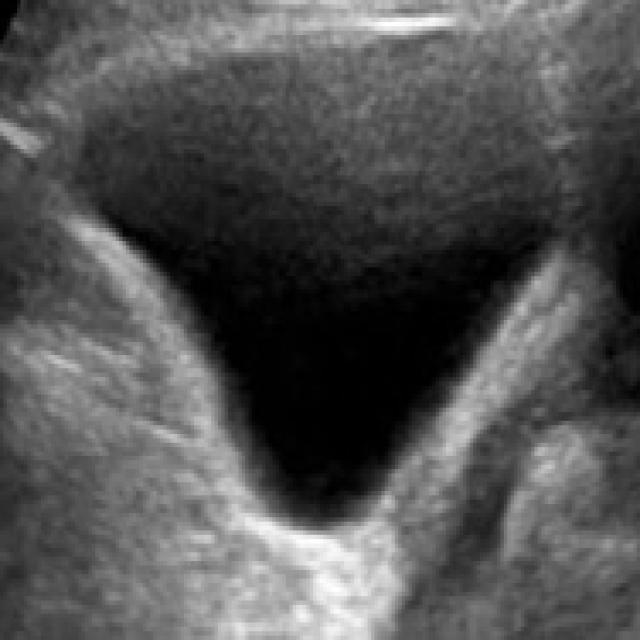bladder: (32, 4, 592, 588)
